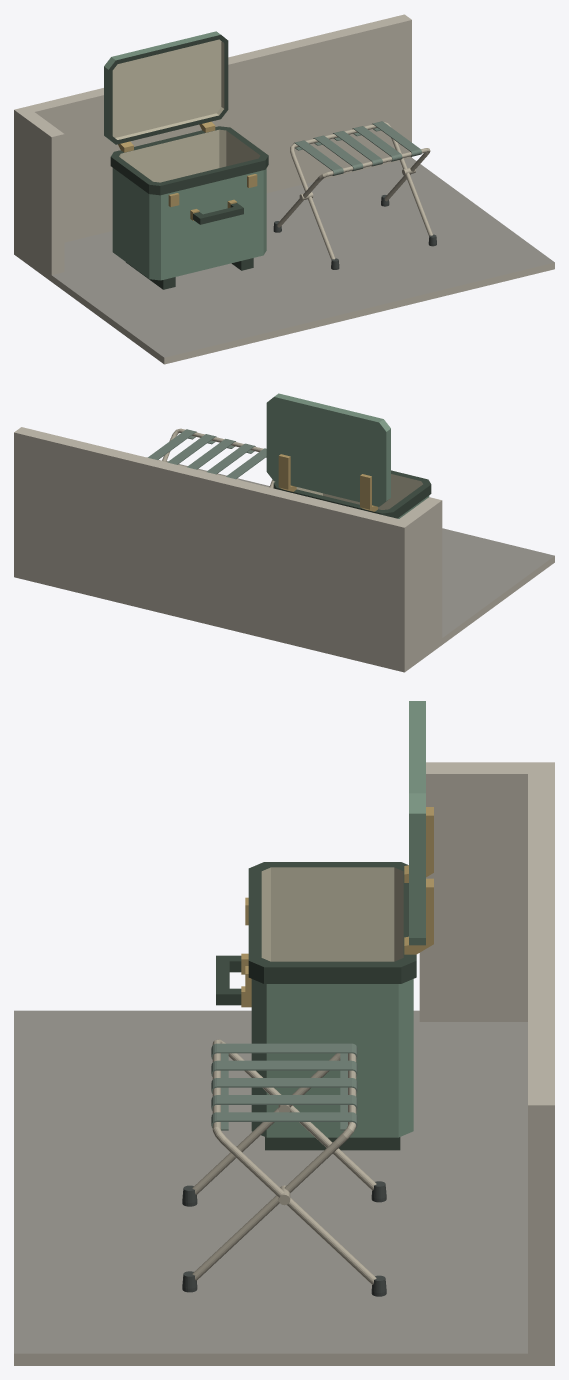
3 renders of one model, top to bottom at view 1: azimuth 30°, elevation 25°; view 2: azimuth 150°, elevation 25°; view 3: azimuth 270°, elevation 25°, orthographic. The views are drawn at different scales.
Parts seen in each view (by area): view 1: SCENE_ONLY__PackingFloorAndLowWalls, case__DeepCase_ContinuousSteppedShell, case__SingleUprightCover_ContinuousRecessedShell, rack__WholeInnerRoundedUFrame, rack__WholeOuterRoundedUFrame, case__OneContinuousOpenFrontGrip, rack__WholeWrappedWebbingStrap_1, rack__WholeWrappedWebbingStrap_4, rack__WholeWrappedWebbingStrap_5, rack__WholeWrappedWebbingStrap_3, rack__WholeWrappedWebbingStrap_2; view 2: SCENE_ONLY__PackingFloorAndLowWalls, case__SingleUprightCover_ContinuousRecessedShell, case__DeepCase_ContinuousSteppedShell, case__Right_FixedRearCoverCheek, case__Left_FixedRearCoverCheek, rack__WholeWrappedWebbingStrap_2, rack__WholeWrappedWebbingStrap_4, rack__WholeWrappedWebbingStrap_3, rack__WholeWrappedWebbingStrap_5, rack__WholeWrappedWebbingStrap_1, rack__WholeOuterRoundedUFrame; view 3: SCENE_ONLY__PackingFloorAndLowWalls, case__DeepCase_ContinuousSteppedShell, case__SingleUprightCover_ContinuousRecessedShell, rack__WholeOuterRoundedUFrame, rack__WholeInnerRoundedUFrame, rack__WholeWrappedWebbingStrap_1, rack__WholeWrappedWebbingStrap_2, case__Right_WholeGroundSkid, rack__WholeWrappedWebbingStrap_5, rack__WholeWrappedWebbingStrap_4, rack__WholeWrappedWebbingStrap_3, case__OneContinuousOpenFrontGrip.
Part boxes in pixels (bbox=[...]): SCENE_ONLY__PackingFloorAndLowWalls: bbox=[14, 14, 554, 364]; case__DeepCase_ContinuousSteppedShell: bbox=[110, 126, 268, 280]; case__SingleUprightCover_ContinuousRecessedShell: bbox=[104, 31, 228, 144]; rack__WholeInnerRoundedUFrame: bbox=[290, 122, 432, 260]; rack__WholeOuterRoundedUFrame: bbox=[277, 148, 430, 227]; case__OneContinuousOpenFrontGrip: bbox=[193, 203, 243, 224]; rack__WholeWrappedWebbingStrap_1: bbox=[293, 140, 343, 175]; rack__WholeWrappedWebbingStrap_4: bbox=[352, 126, 402, 161]; rack__WholeWrappedWebbingStrap_5: bbox=[372, 121, 421, 156]; rack__WholeWrappedWebbingStrap_3: bbox=[333, 131, 382, 166]; rack__WholeWrappedWebbingStrap_2: bbox=[313, 135, 363, 171]; SCENE_ONLY__PackingFloorAndLowWalls: bbox=[14, 427, 554, 672]; case__SingleUprightCover_ContinuousRecessedShell: bbox=[266, 393, 390, 506]; case__DeepCase_ContinuousSteppedShell: bbox=[273, 470, 431, 518]; case__Right_FixedRearCoverCheek: bbox=[278, 454, 296, 491]; case__Left_FixedRearCoverCheek: bbox=[360, 474, 377, 511]; rack__WholeWrappedWebbingStrap_2: bbox=[207, 443, 255, 474]; rack__WholeWrappedWebbingStrap_4: bbox=[167, 434, 216, 464]; rack__WholeWrappedWebbingStrap_3: bbox=[187, 438, 235, 469]; rack__WholeWrappedWebbingStrap_5: bbox=[148, 429, 196, 459]; rack__WholeWrappedWebbingStrap_1: bbox=[226, 448, 266, 479]; rack__WholeOuterRoundedUFrame: bbox=[162, 428, 274, 488]; SCENE_ONLY__PackingFloorAndLowWalls: bbox=[14, 762, 554, 1365]; case__DeepCase_ContinuousSteppedShell: bbox=[248, 862, 416, 1137]; case__SingleUprightCover_ContinuousRecessedShell: bbox=[409, 701, 425, 945]; rack__WholeOuterRoundedUFrame: bbox=[212, 1039, 376, 1284]; rack__WholeInnerRoundedUFrame: bbox=[192, 1053, 356, 1280]; rack__WholeWrappedWebbingStrap_1: bbox=[211, 1043, 357, 1060]; rack__WholeWrappedWebbingStrap_2: bbox=[211, 1060, 357, 1077]; case__Right_WholeGroundSkid: bbox=[265, 1137, 400, 1150]; rack__WholeWrappedWebbingStrap_5: bbox=[211, 1112, 357, 1130]; rack__WholeWrappedWebbingStrap_4: bbox=[211, 1095, 357, 1112]; rack__WholeWrappedWebbingStrap_3: bbox=[211, 1078, 357, 1094]; case__OneContinuousOpenFrontGrip: bbox=[216, 955, 241, 1005].
Size of the model in its own units: 2.4 by 1.23 by 1.6.
